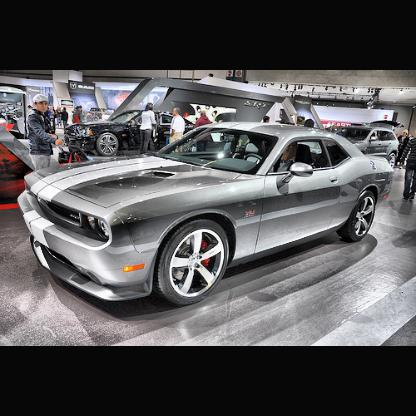Dodge Challenger SRT8 2011: (19, 124, 394, 308)
